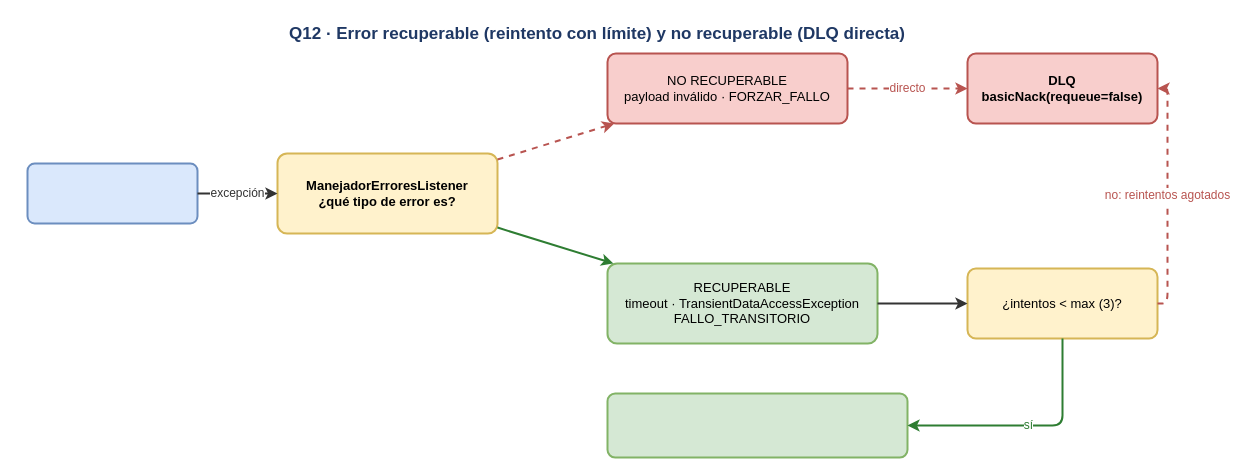
This 1247x475 diagram has some shape labels left out. Each missing label, with the box of its shape:
@RabbitListener recibe el mensaje: (26, 162, 198, 224)
republica con x-intentos + 1 ACK del original → se vuelve a procesar: (606, 392, 908, 458)
